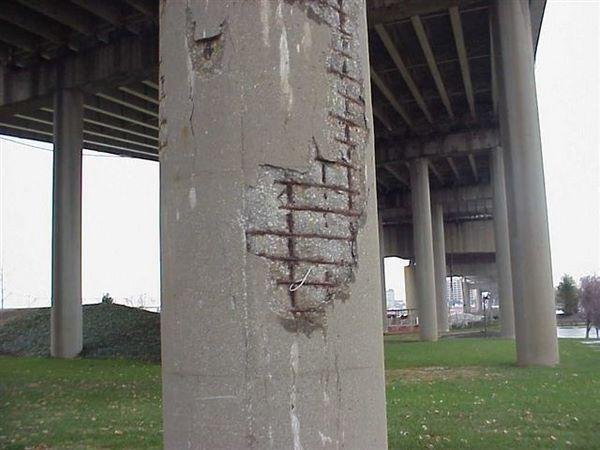exposed_rebar: (247, 212, 356, 308), (272, 136, 363, 218), (329, 88, 361, 146), (331, 0, 355, 60), (327, 58, 363, 86), (193, 32, 221, 60)
spalling: (245, 1, 371, 332), (190, 26, 222, 74)
